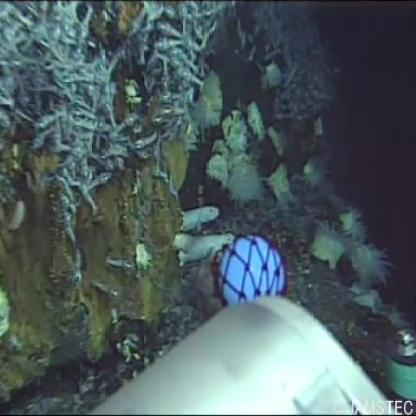Bio: (1, 1, 231, 191), (163, 198, 237, 266)
Rov: (106, 236, 416, 415)
